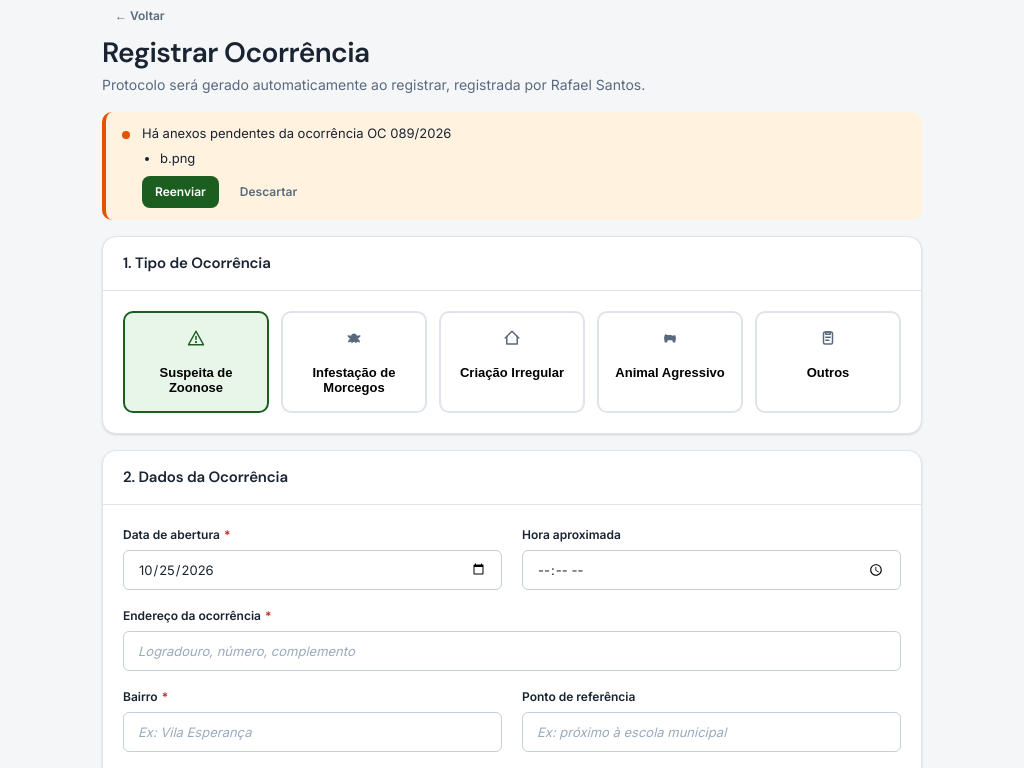
Test: aviso de anexos pendentes (D15) › no cadastro: "Descartar" remove a pendência e libera o registro
Click the button "Descartar" at (269, 192), box [227,176,310,208]
(page scrolled)
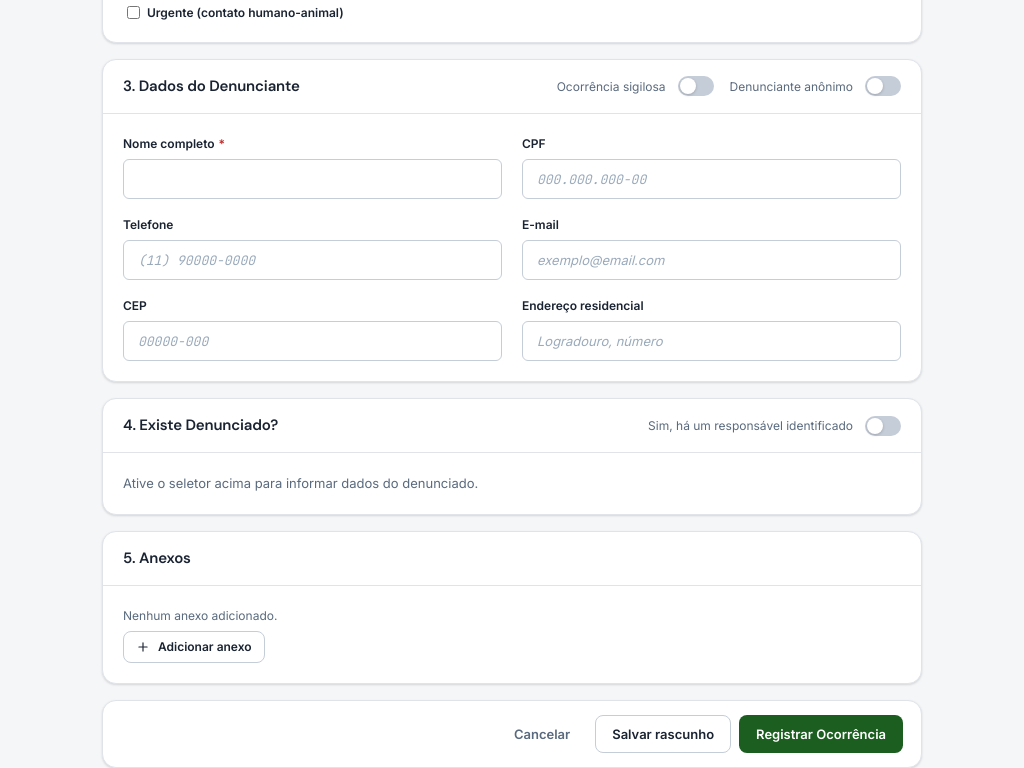
Expected: the text "Há anexos pendentes" is gone
Expected: the button "Registrar Ocorrência" is enabled, [739,716,903,754]
